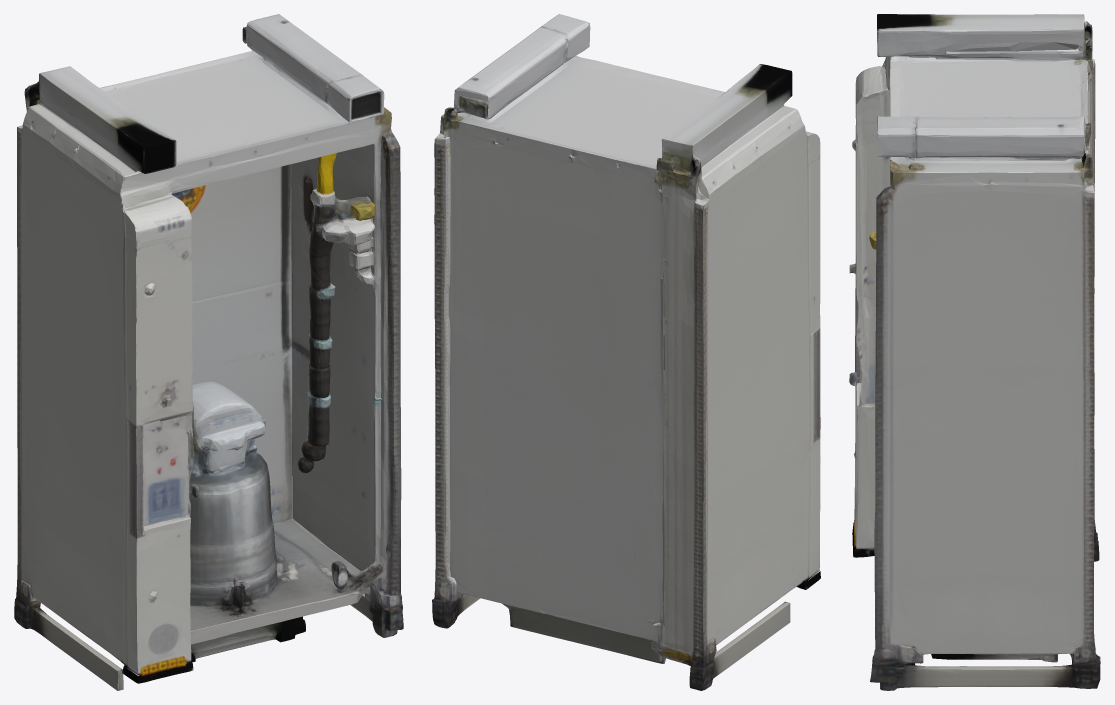
The model's file is SpaceToilet.glb.
3 renders of one model, left to right at view 1: azimuth 30°, elevation 25°; view 2: azimuth 150°, elevation 25°; view 3: azimuth 270°, elevation 25°, orthographic. The views are drawn at different scales.
Visible parts, largest first — view 1: world; view 2: world; view 3: world.
Part boxes in pixels (<box>): world: <box>14,14,403,690</box>; world: <box>432,14,820,690</box>; world: <box>849,14,1100,690</box>.
Bounding box in the file's own units: 0.5237 × 1 × 0.4104.
1 material, 1 textured.
